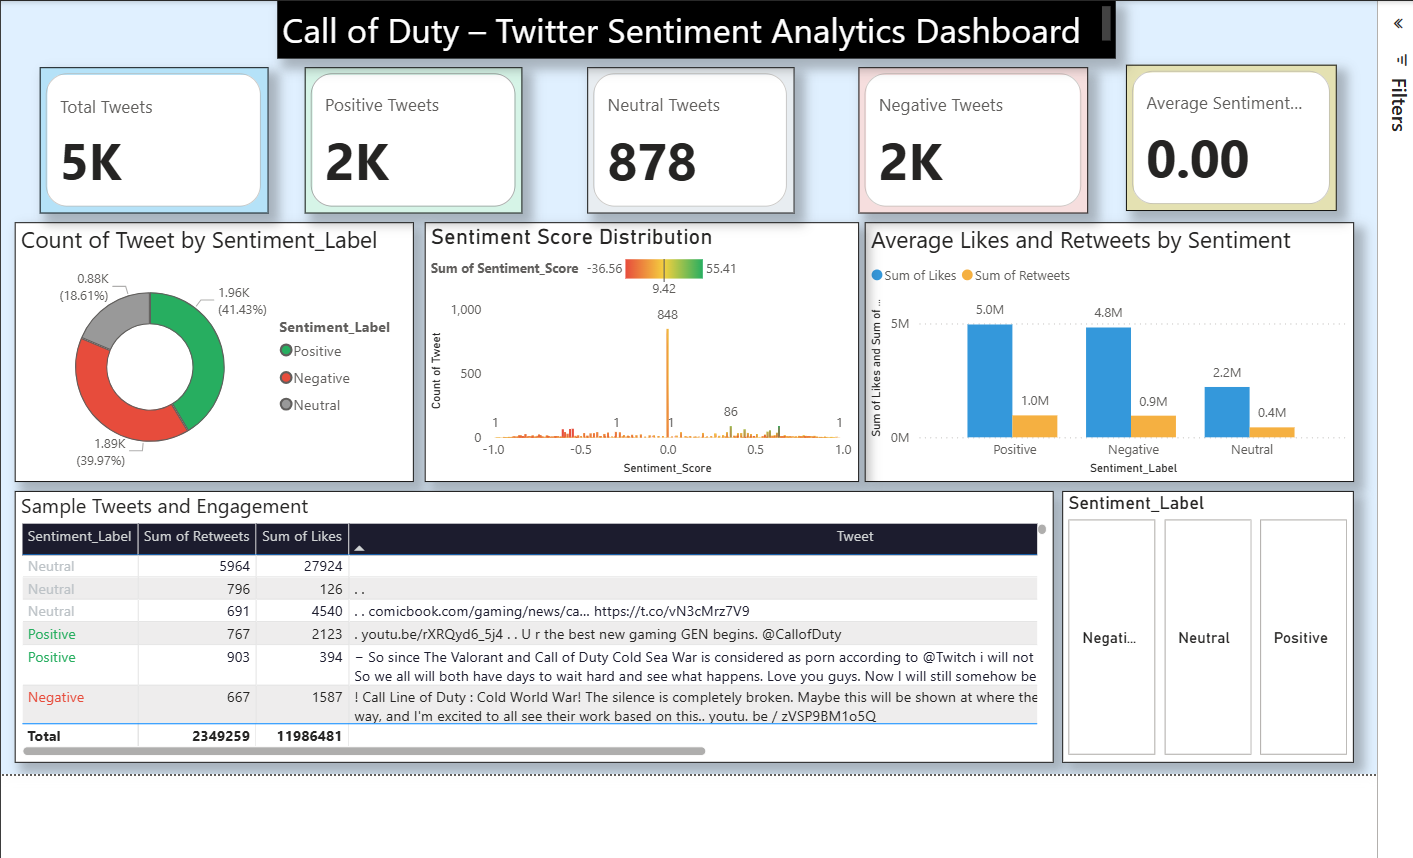

What the dashboard file says about the page in this screenshot:
{"tool":"powerbi","page":{"name":"Page 1","canvas":[1280,720],"ordinal":0},"visuals":[{"type":"cardVisual","fields":{"Data":["callofduty_sentiment.Total Tweets"]},"box":[36.2,61.3,212.5,136.2],"z":0,"group":"g1"},{"type":"donutChart","fields":{"Category":["callofduty_sentiment.Sentiment_Label"],"Y":["CountNonNull(callofduty_sentiment.Tweet)"]},"box":[12.5,206.2,371.2,241.2],"z":0},{"type":"cardVisual","fields":{"Data":["callofduty_sentiment.Positive Tweets"]},"box":[282.4,60.7,202.5,136.2],"z":1000,"group":"g1"},{"type":"clusteredColumnChart","title":"Average Likes and Retweets by Sentiment","fields":{"Category":["callofduty_sentiment.Sentiment_Label"],"Y":["Sum(callofduty_sentiment.Likes)","Sum(callofduty_sentiment.Retweets)"]},"box":[803.8,206.2,455,241.2],"z":1000},{"type":"cardVisual","fields":{"Data":["callofduty_sentiment.Neutral Tweets"]},"box":[545,60.7,192.5,136.2],"z":2000,"group":"g1"},{"type":"columnChart","title":"Sentiment Score Distribution","fields":{"Category":["callofduty_sentiment.Sentiment_Score"],"Y":["CountNonNull(callofduty_sentiment.Tweet)"]},"box":[393.8,206.2,403.8,241.2],"z":2000},{"type":"cardVisual","fields":{"Data":["callofduty_sentiment.Negative Tweets"]},"box":[797.4,60.7,213.8,136.2],"z":3000,"group":"g1"},{"type":"tableEx","title":"Sample Tweets and Engagement","fields":{"Values":["callofduty_sentiment.Sentiment_Label","Sum(callofduty_sentiment.Retweets)","Sum(callofduty_sentiment.Likes)","callofduty_sentiment.Tweet","Sum(callofduty_sentiment.Sentiment_Score)"]},"box":[12.5,456.2,966.2,252.5],"z":3000},{"type":"cardVisual","fields":{"Data":["callofduty_sentiment.Average Sentiment Score"]},"box":[1046.8,58.8,196.2,136.2],"z":4000,"group":"g1"},{"type":"advancedSlicerVisual","fields":{"Values":["callofduty_sentiment.Sentiment_Label"]},"box":[987.5,456.2,271.2,252.5],"z":4000},{"type":"group","id":"g1","title":"Group 1","box":[36.2,58.8,1207.5,138.8],"z":5000},{"type":"textbox","box":[257.5,0,780,53.8],"z":6000}]}

Visuals, with their boxes in screenshot pixels (x1, y1, x2, y2):
cardVisual - callofduty_sentiment.Total Tweets: bbox=(25, 63, 256, 211)
donutChart - callofduty_sentiment.Sentiment_Label x CountNonNull(callofduty_sentiment.Tweet): bbox=(0, 221, 403, 483)
cardVisual - callofduty_sentiment.Positive Tweets: bbox=(293, 62, 513, 211)
"Average Likes and Retweets by Sentiment" clusteredColumnChart: bbox=(860, 221, 1356, 483)
cardVisual - callofduty_sentiment.Neutral Tweets: bbox=(579, 62, 788, 211)
"Sentiment Score Distribution" columnChart: bbox=(414, 221, 854, 483)
cardVisual - callofduty_sentiment.Negative Tweets: bbox=(853, 62, 1086, 211)
"Sample Tweets and Engagement" tableEx: bbox=(0, 493, 1051, 768)
cardVisual - callofduty_sentiment.Average Sentiment Score: bbox=(1125, 60, 1339, 209)
advancedSlicerVisual - callofduty_sentiment.Sentiment_Label: bbox=(1060, 493, 1356, 768)
"Group 1" group: bbox=(25, 60, 1339, 211)
textbox: bbox=(266, 0, 1115, 55)
